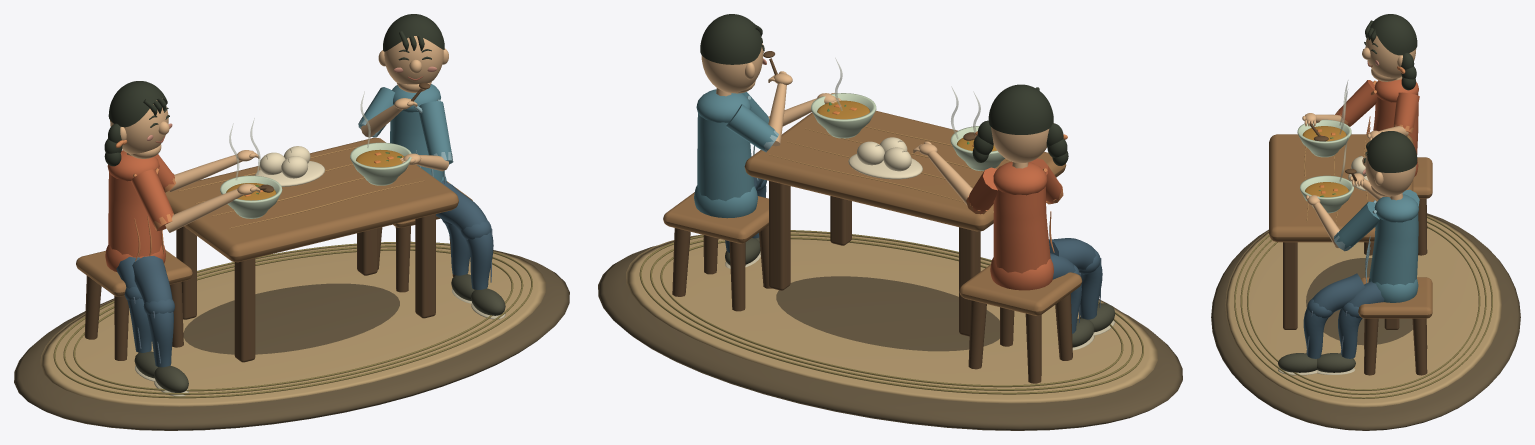
The model's file is good.glb.
3 renders of one model, left to right at view 1: azimuth 30°, elevation 25°; view 2: azimuth 150°, elevation 25°; view 3: azimuth 270°, elevation 25°, orthographic. The views are drawn at different scales.
Visible parts, largest first — view 1: good_surface_01, good_surface_00, good_surface_03, good_surface_04, good_surface_08, good_surface_06, good_surface_05, good_surface_02, good_surface_14, good_surface_12, good_surface_18, good_surface_09 (+4 smaller); view 2: good_surface_01, good_surface_00, good_surface_03, good_surface_04, good_surface_05, good_surface_12, good_surface_14, good_surface_02, good_surface_06, good_surface_08, good_surface_18, good_surface_22 (+3 smaller); view 3: good_surface_01, good_surface_00, good_surface_03, good_surface_12, good_surface_04, good_surface_14, good_surface_06, good_surface_08, good_surface_02, good_surface_05, good_surface_18, good_surface_09 (+1 smaller).
Part boxes in pixels (left/top/right/bottom): good_surface_01: left=40, top=242, right=545, bottom=406; good_surface_00: left=14, top=253, right=569, bottom=430; good_surface_03: left=76, top=137, right=472, bottom=296; good_surface_04: left=84, top=82, right=454, bottom=362; good_surface_08: left=116, top=180, right=493, bottom=367; good_surface_06: left=110, top=36, right=448, bottom=232; good_surface_05: left=105, top=150, right=174, bottom=271; good_surface_02: left=53, top=241, right=532, bottom=398; good_surface_14: left=104, top=14, right=444, bottom=166; good_surface_12: left=358, top=84, right=452, bottom=182; good_surface_18: left=220, top=142, right=411, bottom=218; good_surface_09: left=134, top=274, right=505, bottom=392; good_surface_01: left=626, top=232, right=1157, bottom=403; good_surface_00: left=598, top=245, right=1182, bottom=430; good_surface_03: left=663, top=110, right=1082, bottom=315; good_surface_04: left=672, top=51, right=1072, bottom=383; good_surface_05: left=967, top=158, right=1062, bottom=290; good_surface_12: left=694, top=89, right=777, bottom=218; good_surface_14: left=700, top=14, right=1068, bottom=165; good_surface_02: left=639, top=230, right=1143, bottom=394; good_surface_06: left=701, top=43, right=1049, bottom=205; good_surface_08: left=725, top=177, right=1102, bottom=333; good_surface_18: left=811, top=93, right=1004, bottom=171; good_surface_22: left=848, top=137, right=922, bottom=179; good_surface_01: left=1225, top=214, right=1501, bottom=407; good_surface_00: left=1211, top=213, right=1520, bottom=430; good_surface_03: left=1269, top=134, right=1432, bottom=318; good_surface_12: left=1334, top=189, right=1419, bottom=302; good_surface_04: left=1283, top=121, right=1427, bottom=375; good_surface_14: left=1364, top=14, right=1417, bottom=172; good_surface_06: left=1302, top=35, right=1416, bottom=247; good_surface_08: left=1303, top=273, right=1384, bottom=358; good_surface_02: left=1234, top=216, right=1492, bottom=398; good_surface_05: left=1336, top=79, right=1419, bottom=176; good_surface_18: left=1297, top=119, right=1353, bottom=213; good_surface_09: left=1278, top=353, right=1355, bottom=372.
Bounding box in the file's own units: 4.5 × 2.42 × 2.62.
